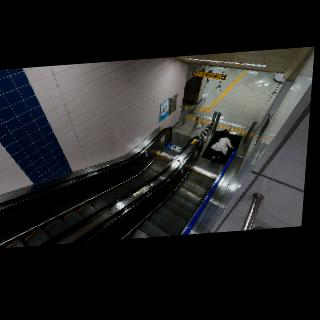anomaly: (207, 130, 239, 163)
